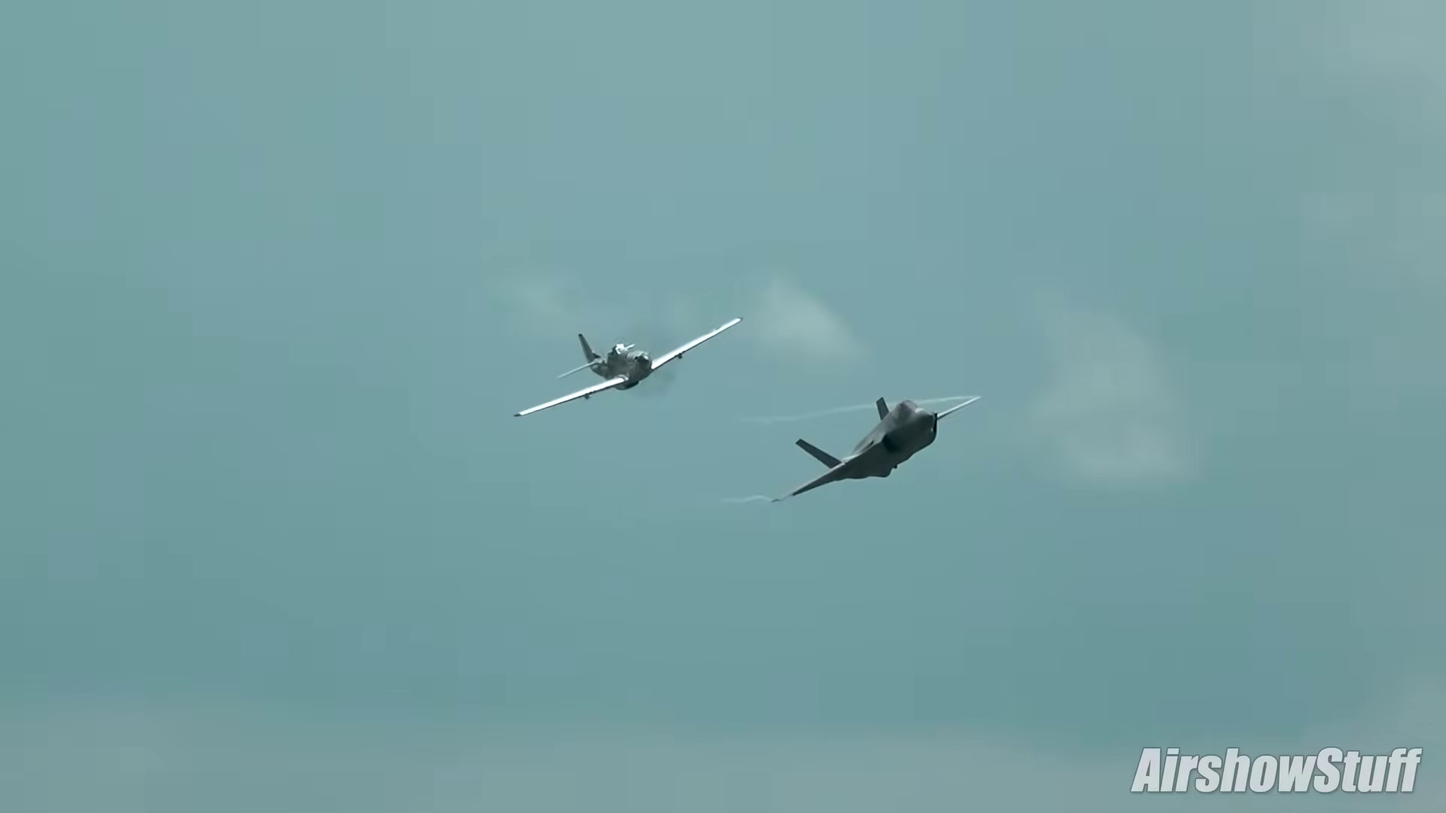F35: (770, 391, 983, 508)
